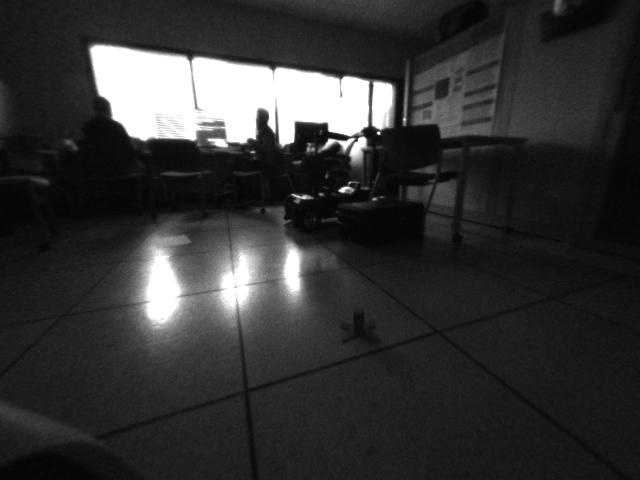x: (327, 305, 386, 351)
